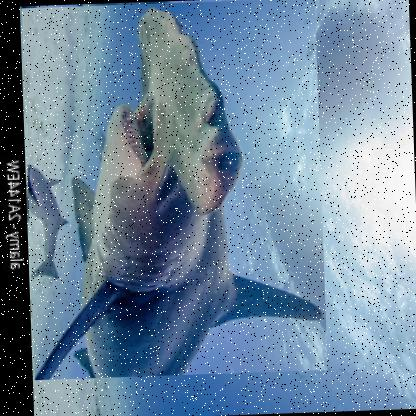hammerhead_Shark: (20, 0, 328, 381)
